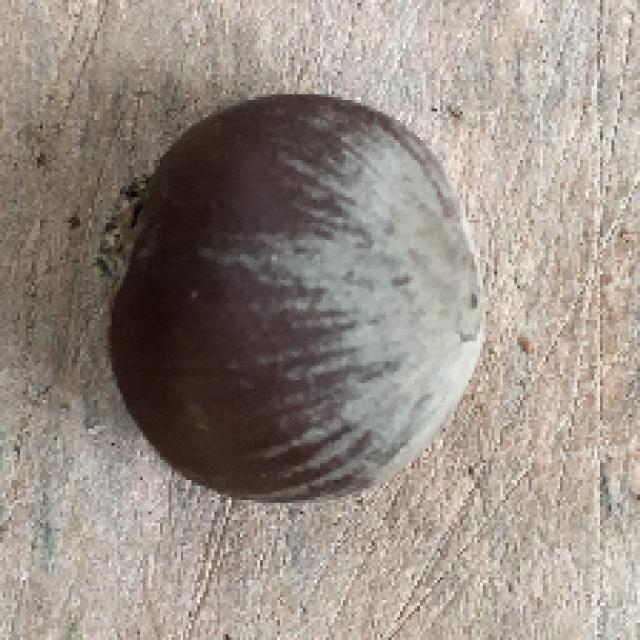damagedHazelnut: (99, 71, 489, 509)
